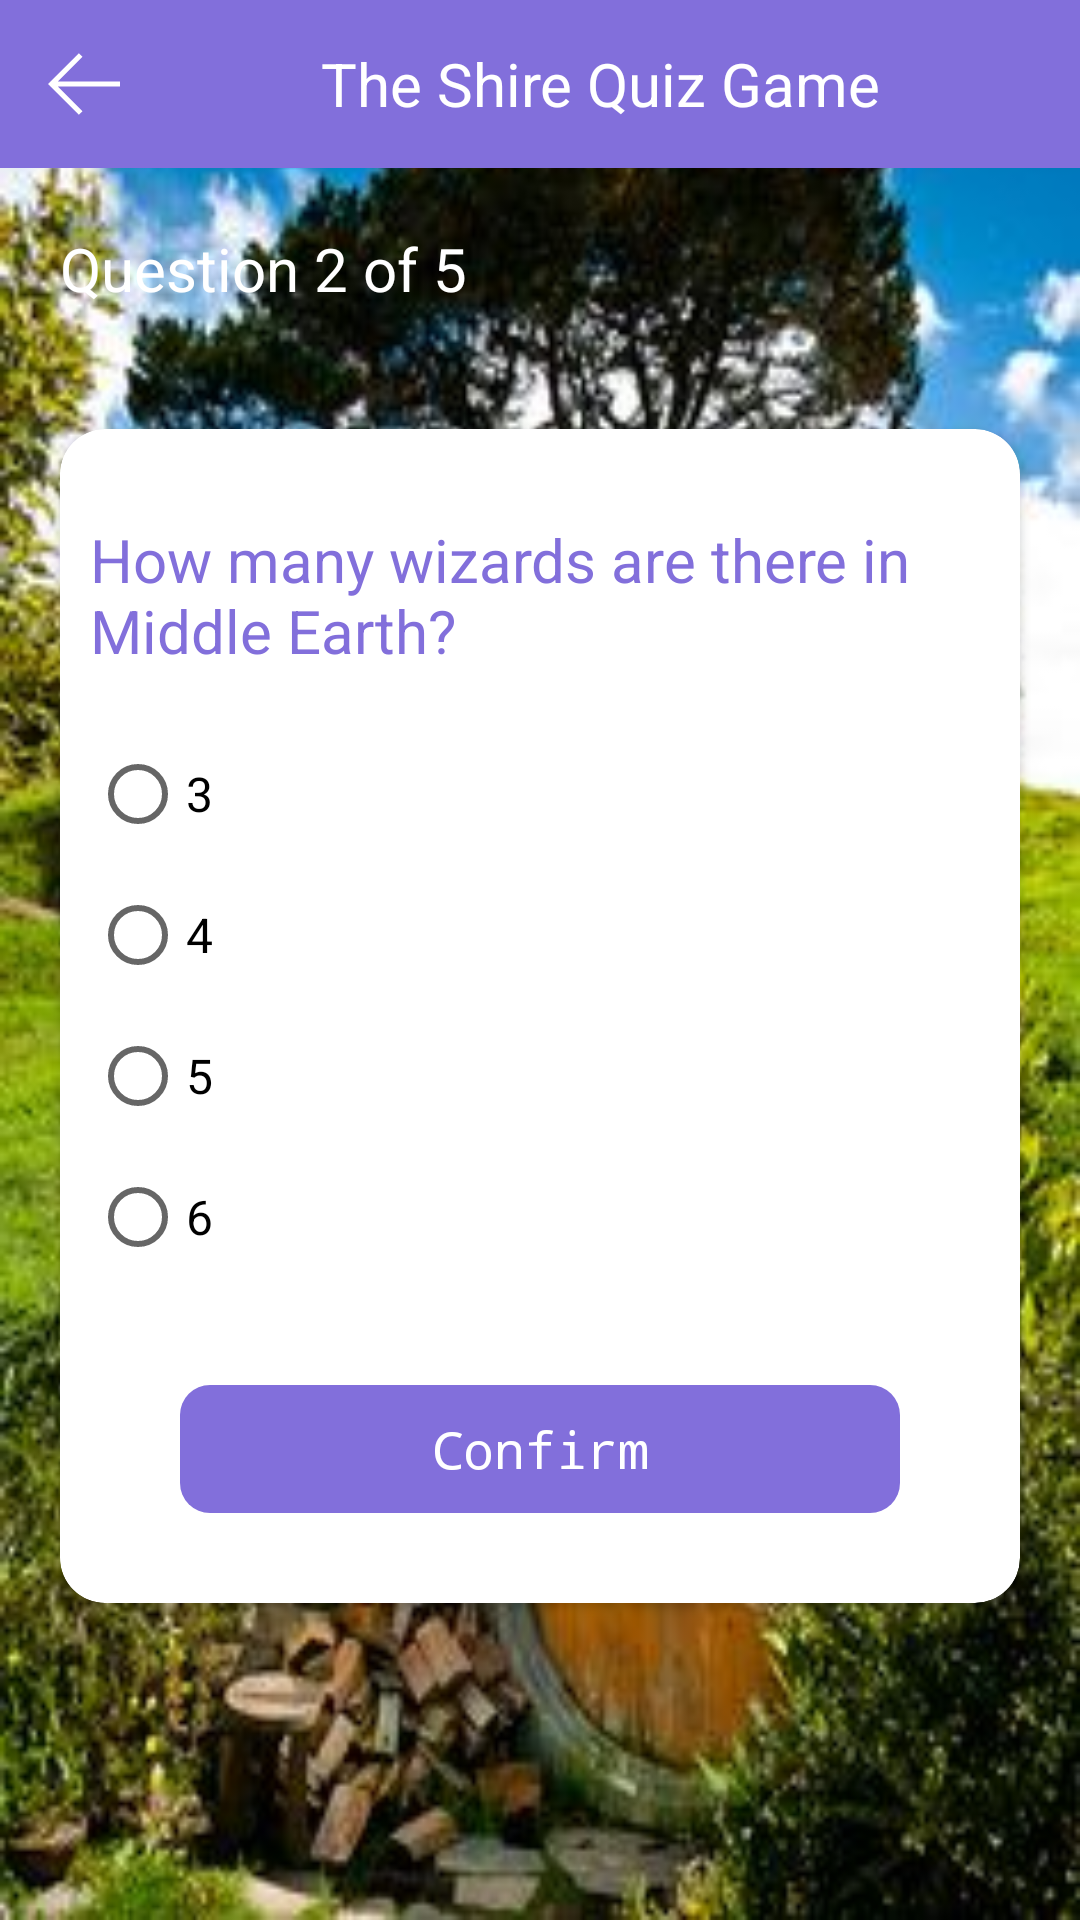

Screen size 1080*1920. Icon name, then its box in pixels as (x1=x1, y1=y1, x2=x2, y2=y2):
left arrow: (x1=48, y1=53, x2=120, y2=115)
